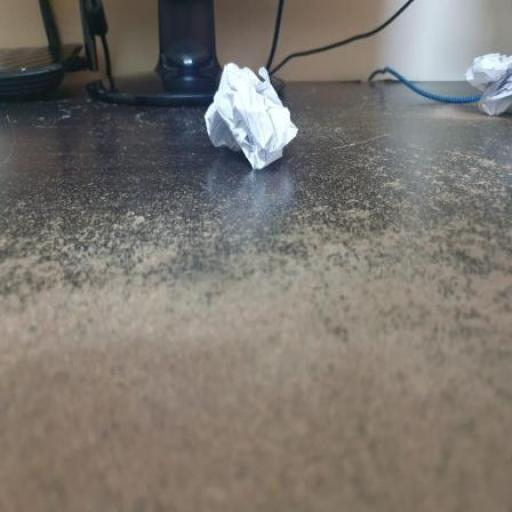paper: (175, 37, 346, 208)
